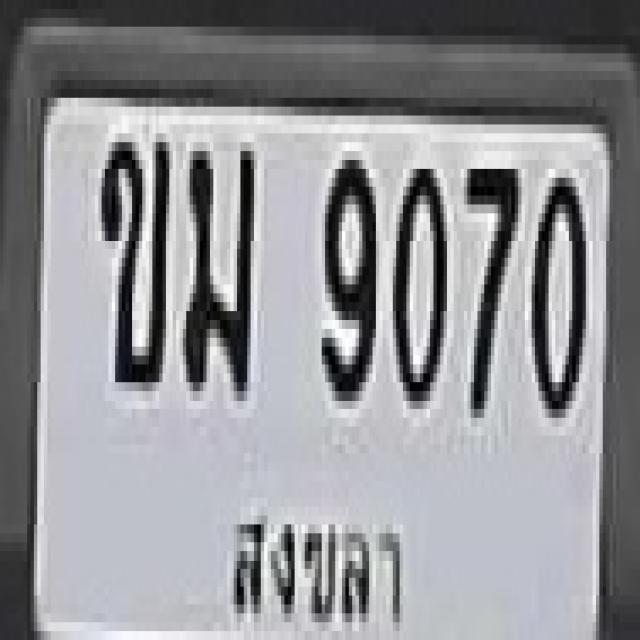-: (180, 133, 250, 391), (98, 125, 166, 382)
0: (389, 160, 444, 400), (528, 169, 582, 409)
7: (464, 160, 515, 409)
9: (318, 151, 372, 391)
SKA: (218, 486, 413, 634)
